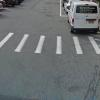Crosswalk: (3, 26, 100, 71)
